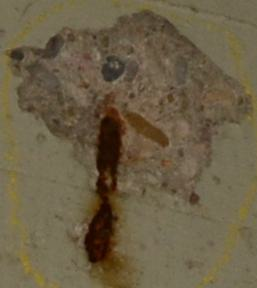Exposed reinforcement: (83, 116, 124, 265)
Spalling: (1, 8, 257, 202)
